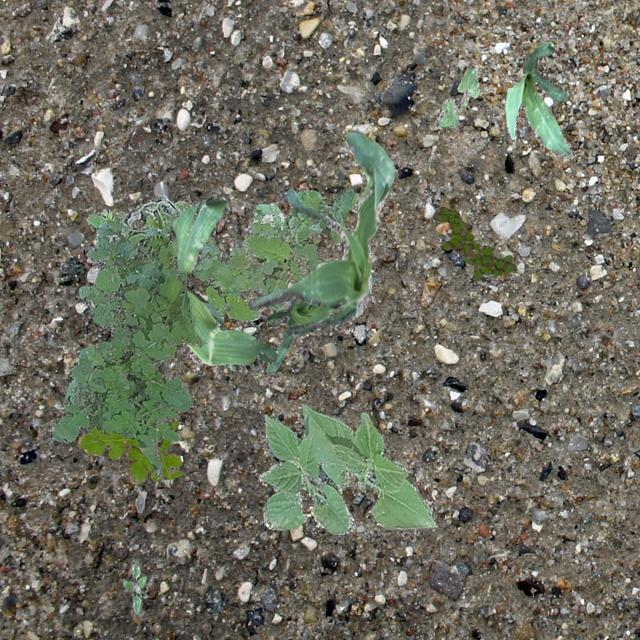crop: (246, 132, 394, 334), (258, 404, 437, 532), (168, 192, 276, 370), (264, 272, 378, 374), (504, 41, 574, 156), (434, 65, 478, 126)
weed: (52, 218, 205, 480), (226, 186, 356, 310), (192, 202, 310, 320), (76, 420, 182, 482), (434, 206, 514, 280), (118, 195, 192, 242), (122, 562, 146, 612), (86, 206, 126, 228)
